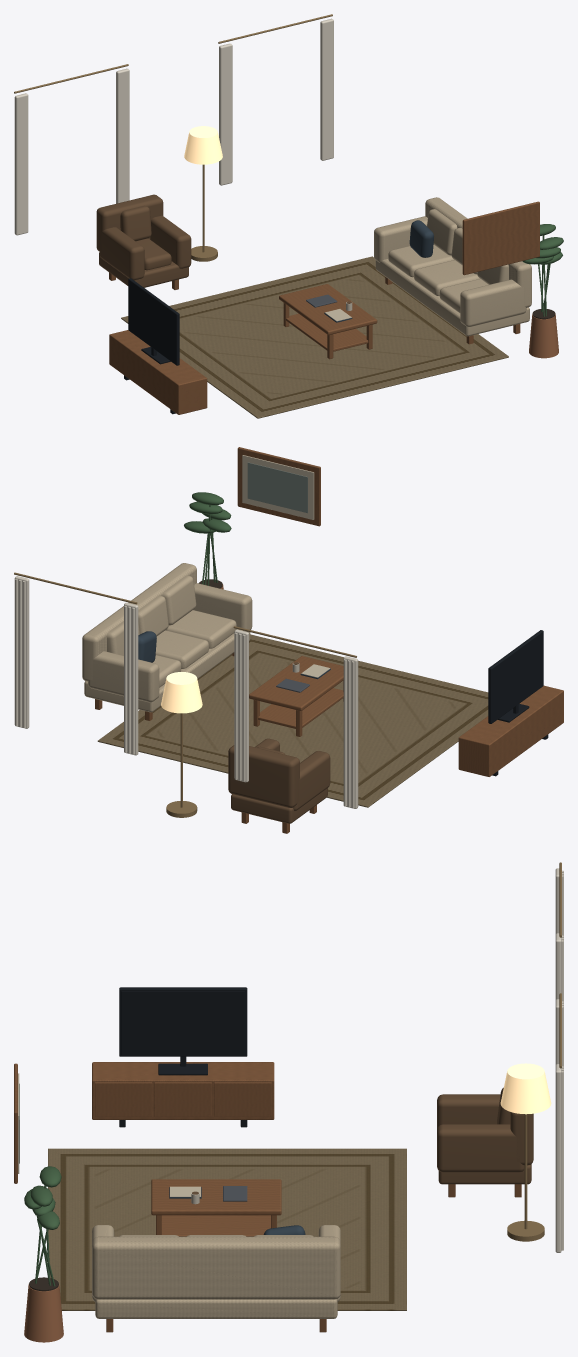
File: living-furniture-v002.glb
The picture shows the model from 3 angles, top to bottom: view 1: azimuth 30°, elevation 25°; view 2: azimuth 150°, elevation 25°; view 3: azimuth 270°, elevation 25°; orthographic projection. The views are drawn at different scales.
Visible parts, largest first — view 1: Export sofa deck; view 2: Export sofa deck; view 3: Export sofa deck.
Boxes of the visible parts, x1,y1,x2,y2 form: Export sofa deck: (14,14,563,418); Export sofa deck: (14,447,563,833); Export sofa deck: (14,862,563,1342).
Bounding box in the file's own units: 5.06 × 2.58 × 4.98.
Materials: 16 (3 with a texture image).
